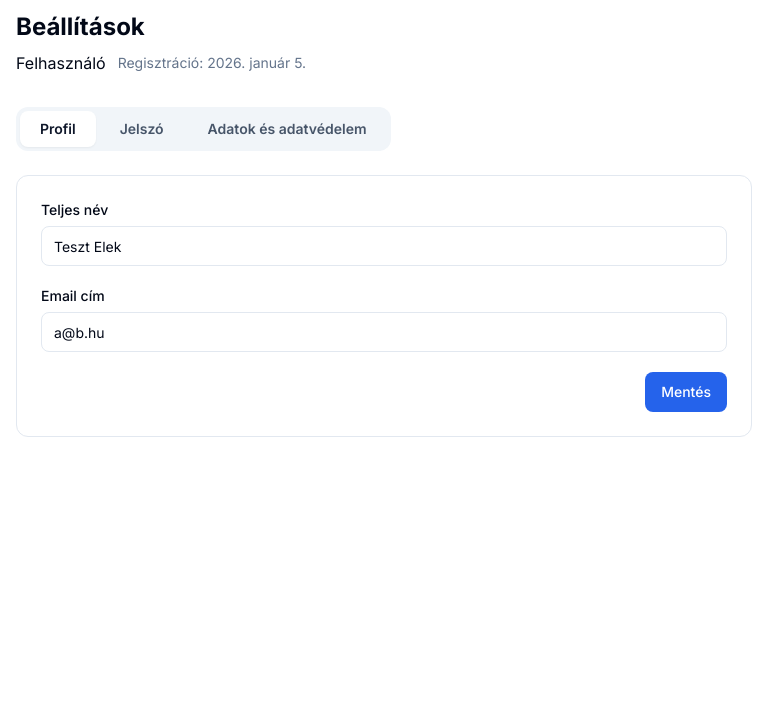
Test: SettingsPage › gyenge jelszónál a szabály-hibát jelzi és nem hívja a changePassword-ot
Step 1. Click the button "Jelszó" → (142, 129), box x1=100 y1=111 x2=184 y2=147
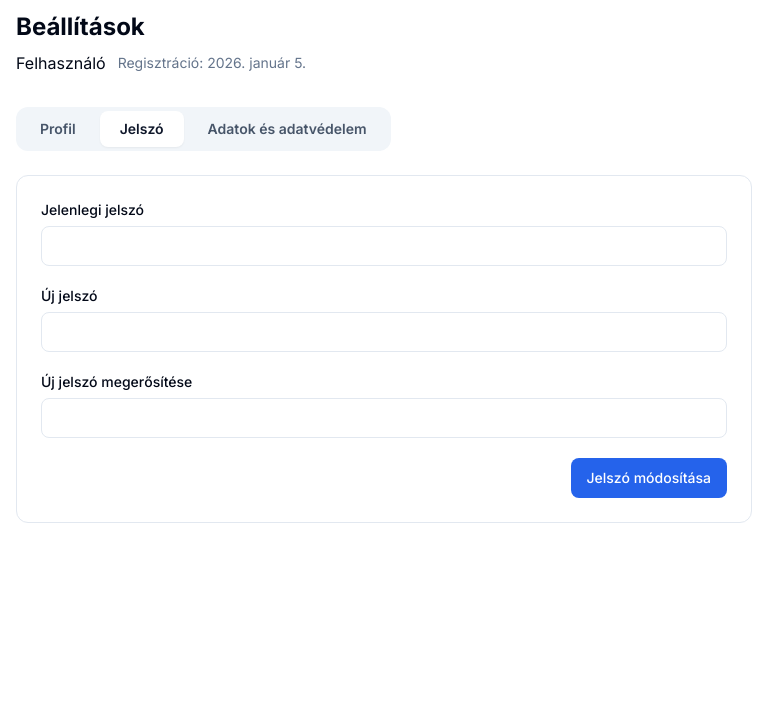
Step 2. Type "Regi123!" into the password field labelled "Jelenlegi jelszó" → (384, 246), box x1=41 y1=226 x2=727 y2=266
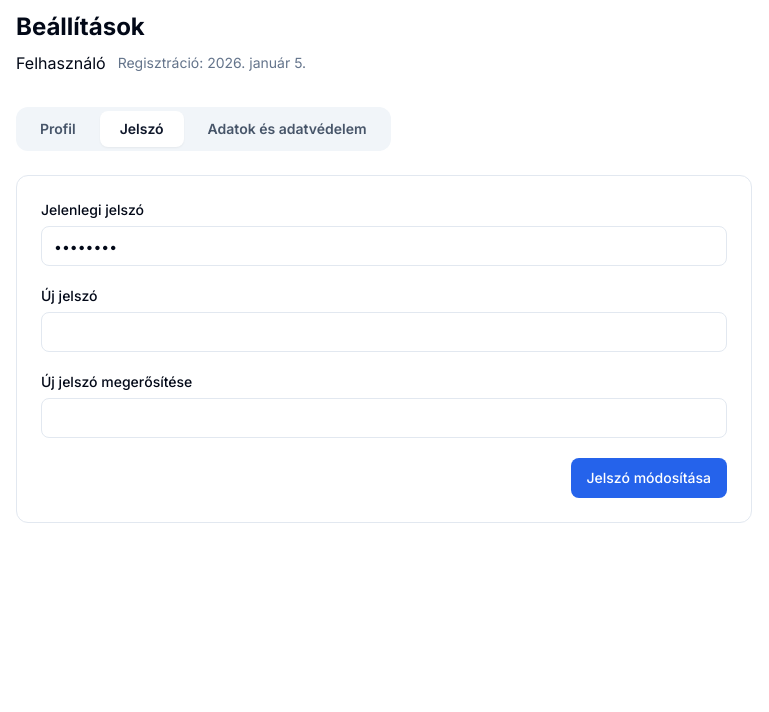
Step 3. Type "abc" into the password field labelled "Új jelszó" → (384, 332), box x1=41 y1=312 x2=727 y2=352
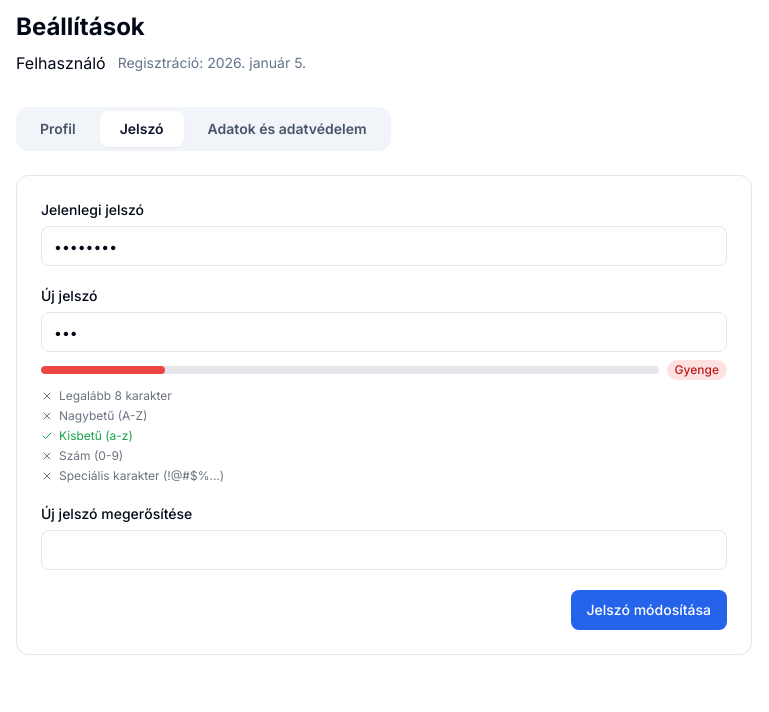
Step 4. Type "abc" into the password field labelled "Új jelszó megerősítése" → (384, 550), box x1=41 y1=530 x2=727 y2=570
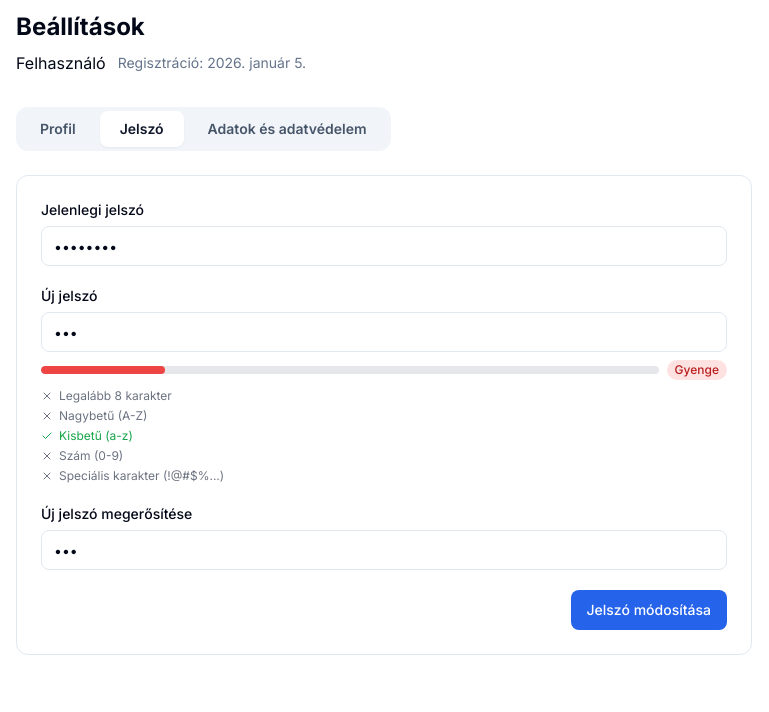
Step 5. Submit the form named "Jelszó módosítása", box x1=41 y1=200 x2=727 y2=630
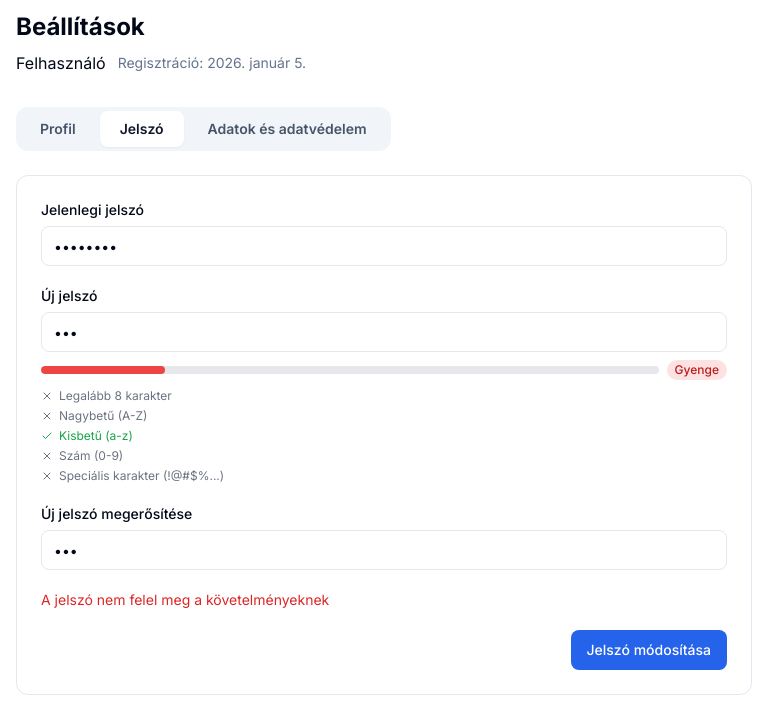
Now the text "A jelszó nem felel meg a követelményeknek" is shown, box x1=41 y1=591 x2=329 y2=608
